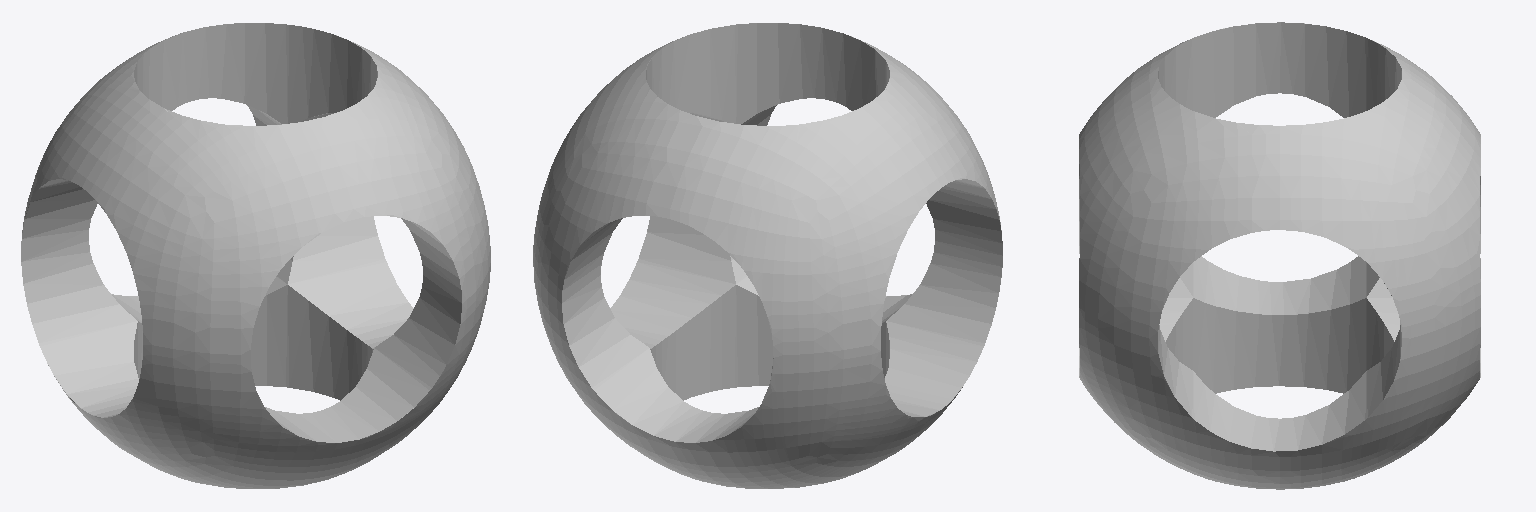
3 views of the same model, side by side, from view 1: azimuth 30°, elevation 25°; view 2: azimuth 150°, elevation 25°; view 3: azimuth 270°, elevation 25° (orthographic).
Visible parts, largest first — view 1: body; view 2: body; view 3: body.
Boxes of the visible parts, box(x1,y1,x2,y2) form: body: box(21, 23, 490, 488); body: box(533, 23, 1002, 488); body: box(1079, 22, 1480, 489).
Size of the model in its own units: 85.32 by 85.32 by 85.32.